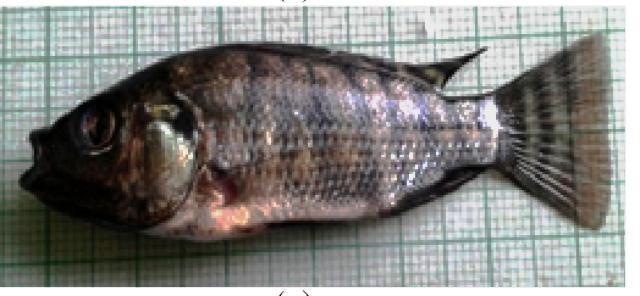Streptococcus: (20, 38, 608, 241)
